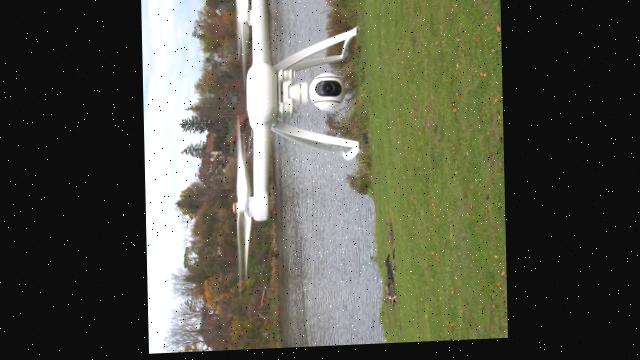drone: (219, 0, 365, 303)
